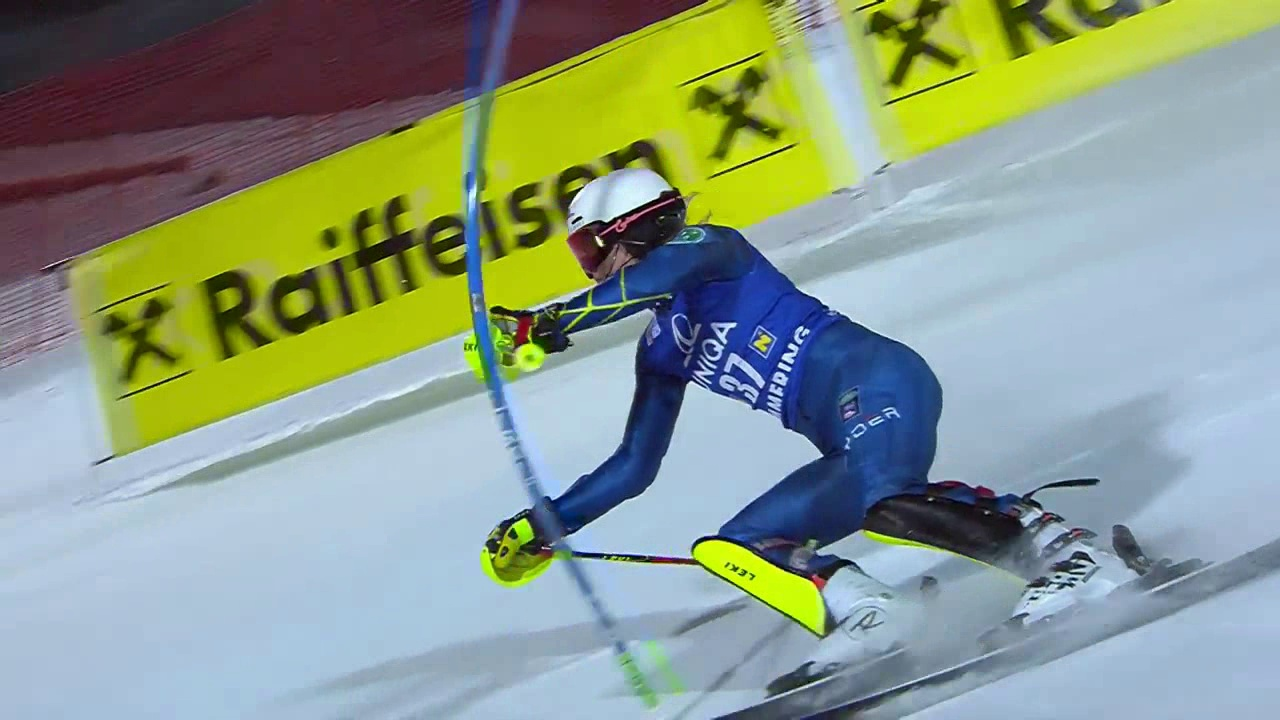raiffeisen: (102, 148, 826, 366), (688, 59, 797, 185), (868, 1, 976, 102)
